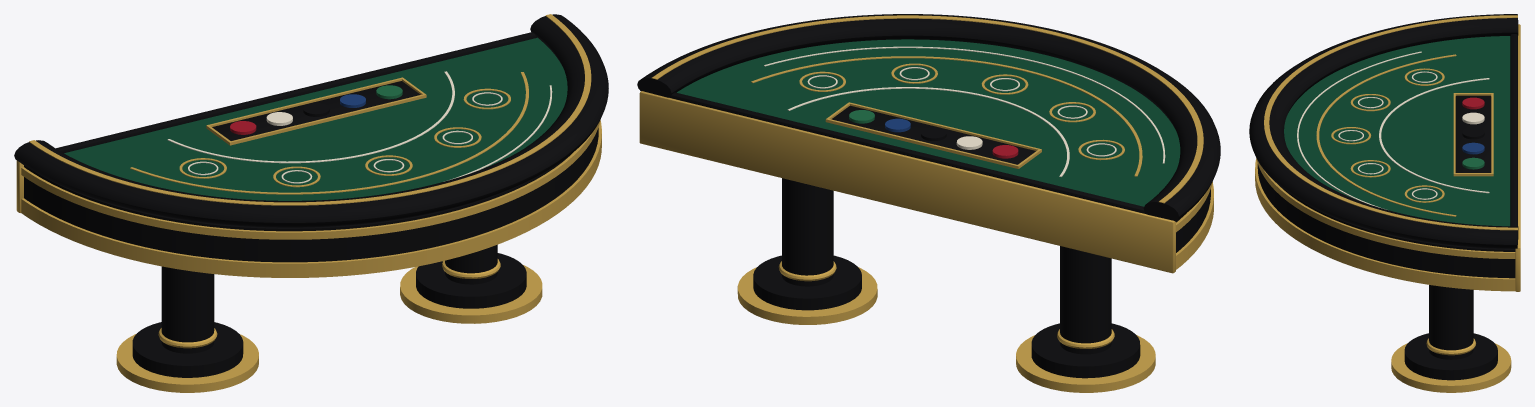
The model's file is card_table.glb.
The picture shows the model from 3 angles, left to right: view 1: azimuth 30°, elevation 25°; view 2: azimuth 150°, elevation 25°; view 3: azimuth 270°, elevation 25°; orthographic projection. The views are drawn at different scales.
Visible parts, largest first — view 1: card_table; view 2: card_table; view 3: card_table.
Boxes of the visible parts, x1=… form: card_table: x1=14, y1=14, x2=608, y2=392; card_table: x1=637, y1=14, x2=1220, y2=392; card_table: x1=1249, y1=14, x2=1520, y2=392.
Size of the model in its own units: 2.42 by 0.9268 by 1.22.
